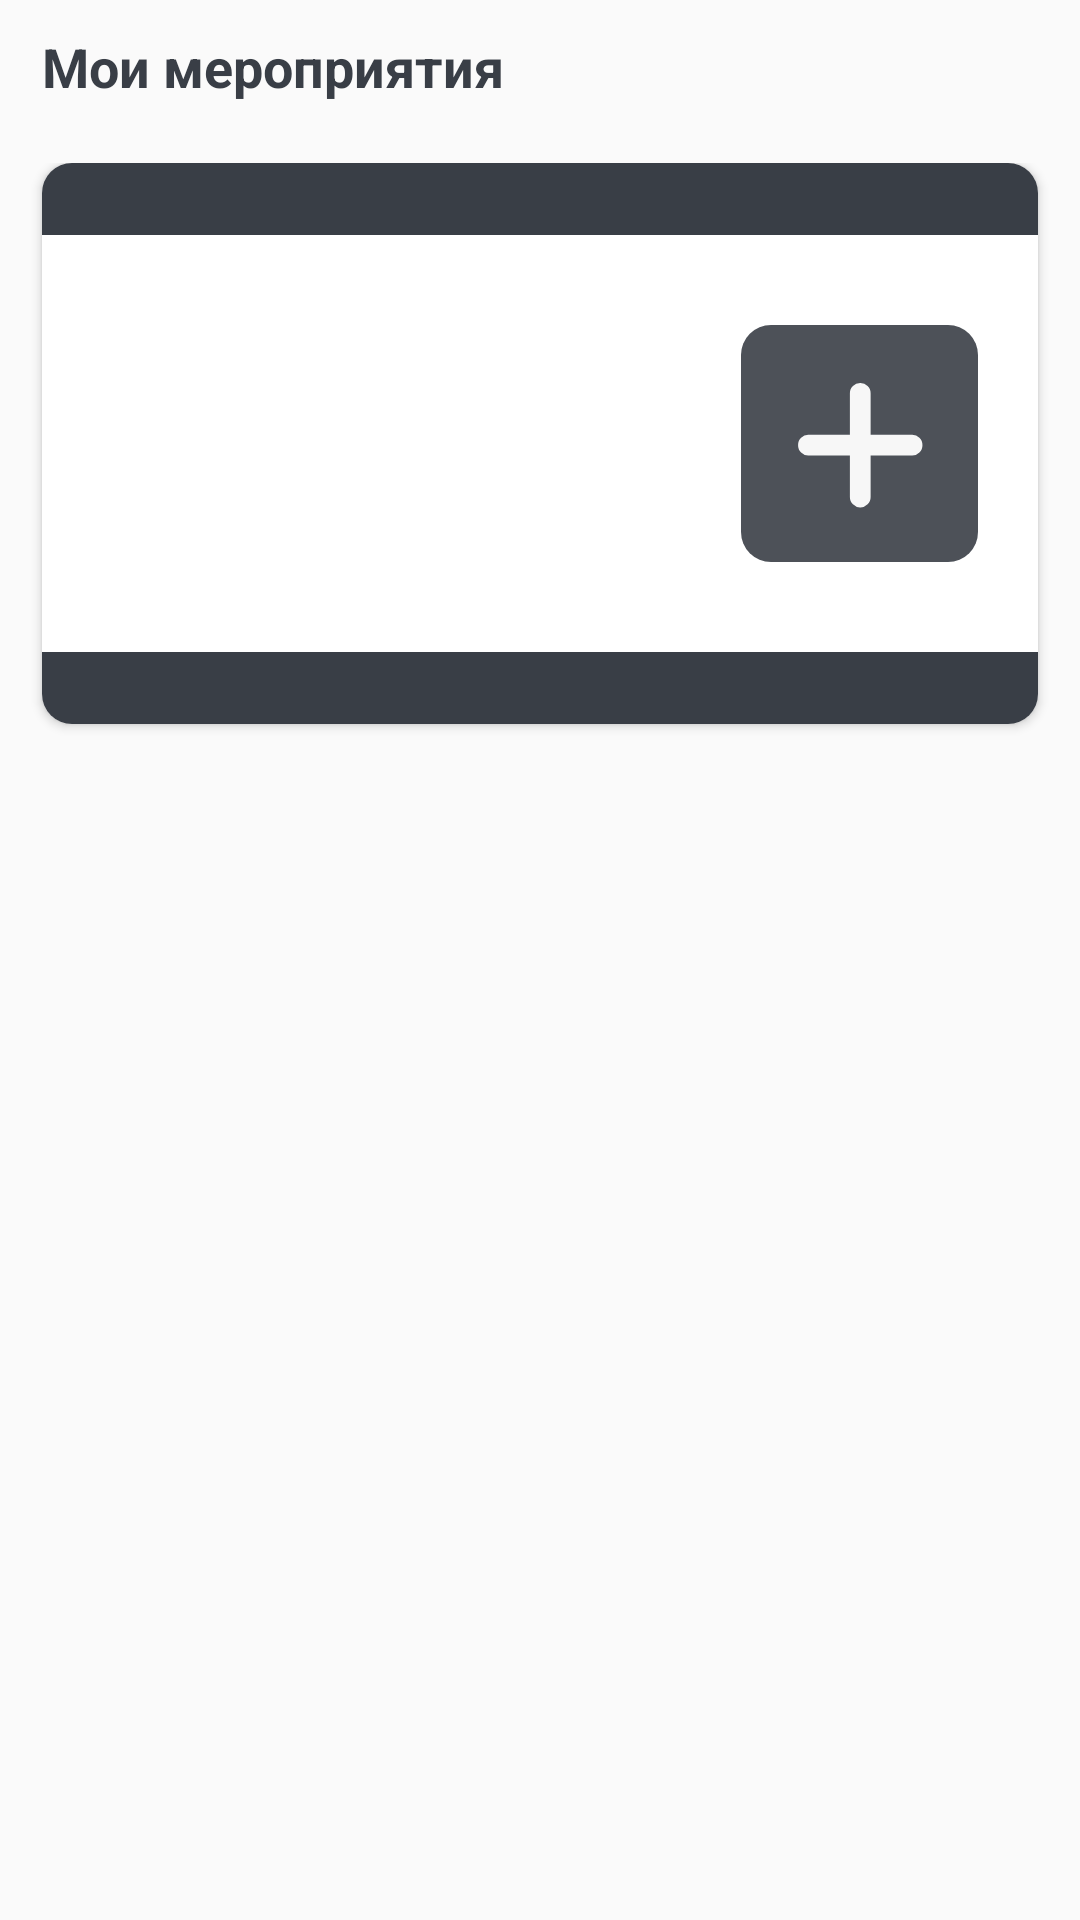

Icon click points for this 1080×1920 phone screenshot, format (x,y):
add: (859,443)
